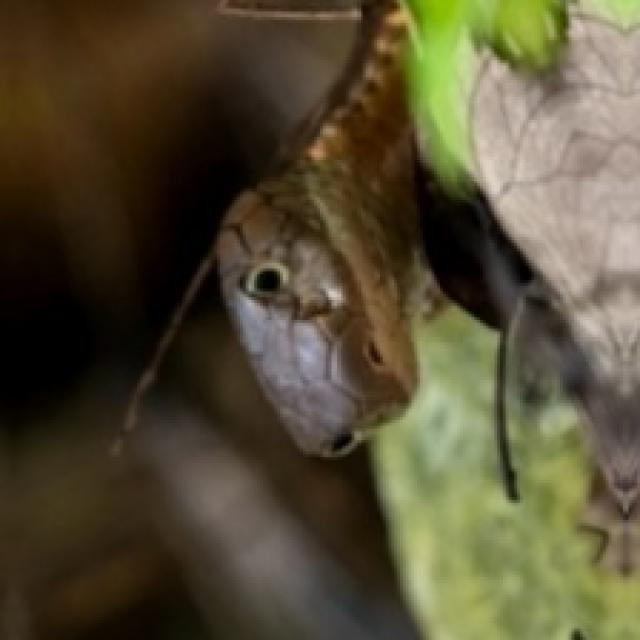king cobra: (217, 0, 637, 634)
